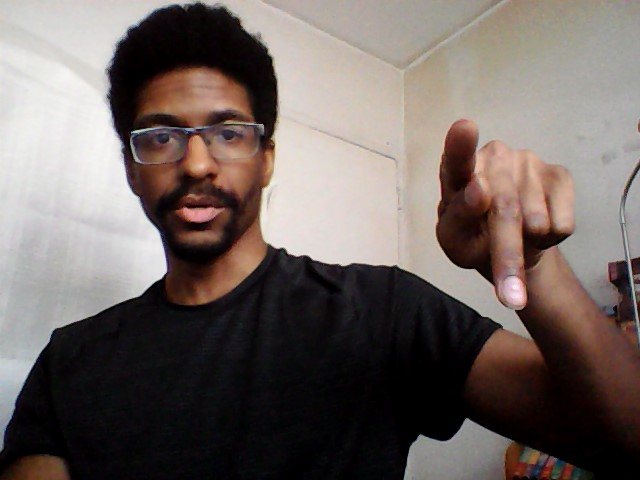p: (429, 114, 585, 313)
